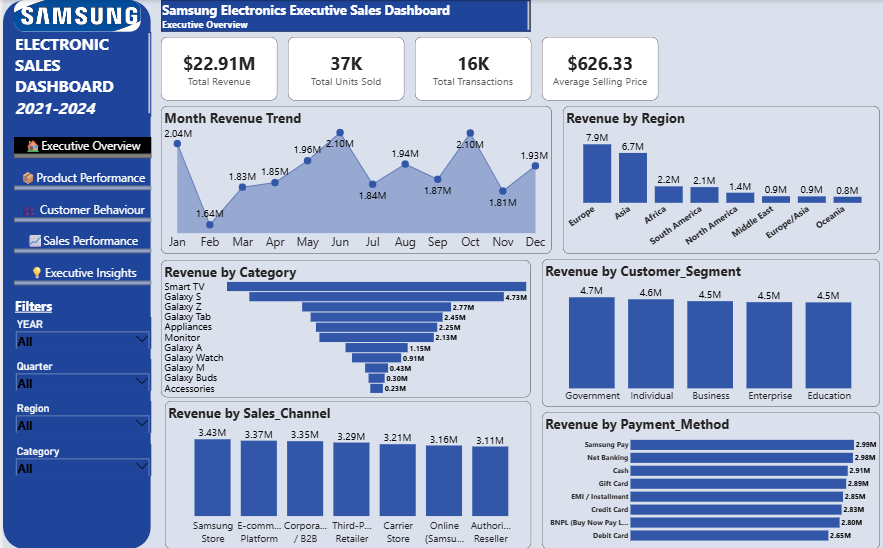

This screenshot's page, from the dashboard's own definition file:
{"tool":"powerbi","page":{"name":"🏠Executive Overview","canvas":[4000,2500],"ordinal":0},"visuals":[{"type":"textbox","box":[720,0,1680,144],"z":0},{"type":"card","fields":{"Values":["My Measures.Total Revenue"]},"box":[720,168,528,288],"z":1000},{"type":"card","fields":{"Values":["My Measures.Total Units Sold"]},"box":[1296,168,528,288],"z":2000},{"type":"card","fields":{"Values":["My Measures.Total Transactions"]},"box":[1872,168,528,288],"z":3000},{"type":"card","fields":{"Values":["My Measures.Average Selling Price"]},"box":[2448,168,528,288],"z":4000},{"type":"areaChart","title":"Month Revenue Trend","fields":{"Category":["Calender.Month Name"],"Y":["My Measures.Total Revenue"]},"box":[720,480,1776,672],"z":5000},{"type":"funnel","title":"Revenue by Category","fields":{"Category":["SALES.Category"],"Y":["My Measures.Total Revenue"]},"box":[720,1184,1680,624],"z":6000},{"type":"clusteredBarChart","title":"Revenue by Payment_Method","fields":{"Y":["My Measures.Total Revenue"],"Category":["SALES.Payment_Method"]},"box":[2448,1872,1536,624],"z":7000},{"type":"clusteredColumnChart","title":"Revenue by Region","fields":{"Category":["SALES.Region"],"Y":["My Measures.Total Revenue"]},"box":[2544,480,1440,672],"z":8000},{"type":"clusteredColumnChart","title":"Revenue by Customer_Segment","fields":{"Y":["My Measures.Total Revenue"],"Category":["SALES.Customer_Segment"]},"box":[2448,1176,1536,672],"z":9000},{"type":"clusteredColumnChart","title":"Revenue by Sales_Channel","fields":{"Y":["My Measures.Total Revenue"],"Category":["SALES.Sales_Channel"]},"box":[736,1824,1664,672],"z":10000},{"type":"shape","box":[0,0,672,2496],"z":11000},{"type":"textbox","box":[48,144,624,384],"z":12000},{"type":"actionButton","title":"🏠Executive Overview","box":[48,624,624,96],"z":13000},{"type":"actionButton","title":"📦Product Performance","box":[48,768,624,96],"z":14000},{"type":"actionButton","title":"👥 Customer Behaviour","box":[48,912,624,96],"z":15000},{"type":"actionButton","title":"📈Sales Performance","box":[48,1056,624,96],"z":16000},{"type":"actionButton","title":"💡Executive Insights","box":[48,1200,624,96],"z":17000},{"type":"image","box":[48,0,576,144],"z":18000},{"type":"slicer","fields":{"Values":["Calender.YEAR"]},"box":[48,1440,624,144],"z":19000},{"type":"slicer","fields":{"Values":["Calender.Quarter"]},"box":[48,1632,624,144],"z":20000},{"type":"slicer","fields":{"Values":["SALES.Category"]},"box":[48,2016,624,144],"z":21000},{"type":"slicer","fields":{"Values":["SALES.Region"]},"box":[48,1824,624,144],"z":22000},{"type":"textbox","box":[48,1344,624,96],"z":23000}]}

Visuals, with their boxes in screenshot pixels (x1, y1, x2, y2), scaled from the page's 4000x2500 canvas onto the 883x548 screenshot:
textbox: crop(159, 0, 530, 32)
card - My Measures.Total Revenue: crop(159, 37, 275, 100)
card - My Measures.Total Units Sold: crop(286, 37, 403, 100)
card - My Measures.Total Transactions: crop(413, 37, 530, 100)
card - My Measures.Average Selling Price: crop(540, 37, 657, 100)
"Month Revenue Trend" areaChart: crop(159, 105, 551, 253)
"Revenue by Category" funnel: crop(159, 260, 530, 396)
"Revenue by Payment_Method" clusteredBarChart: crop(540, 410, 879, 547)
"Revenue by Region" clusteredColumnChart: crop(562, 105, 879, 253)
"Revenue by Customer_Segment" clusteredColumnChart: crop(540, 258, 879, 405)
"Revenue by Sales_Channel" clusteredColumnChart: crop(162, 400, 530, 547)
shape: crop(0, 0, 148, 547)
textbox: crop(11, 32, 148, 116)
"🏠Executive Overview" actionButton: crop(11, 137, 148, 158)
"📦Product Performance" actionButton: crop(11, 168, 148, 189)
"👥 Customer Behaviour" actionButton: crop(11, 200, 148, 221)
"📈Sales Performance" actionButton: crop(11, 231, 148, 253)
"💡Executive Insights" actionButton: crop(11, 263, 148, 284)
image: crop(11, 0, 138, 32)
slicer - Calender.YEAR: crop(11, 316, 148, 347)
slicer - Calender.Quarter: crop(11, 358, 148, 389)
slicer - SALES.Category: crop(11, 442, 148, 473)
slicer - SALES.Region: crop(11, 400, 148, 431)
textbox: crop(11, 295, 148, 316)
